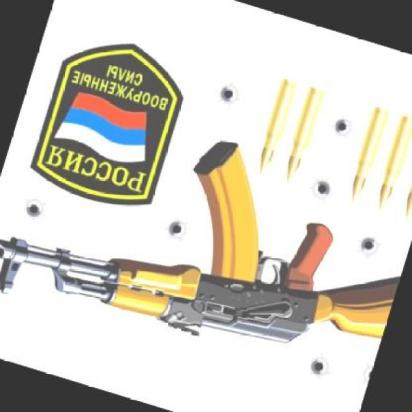Gun: (0, 97, 412, 406)
